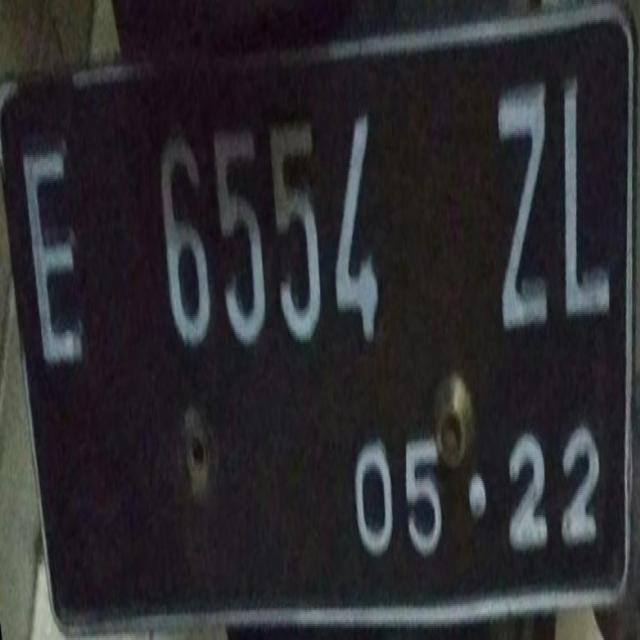plate: (0, 58, 639, 608)
